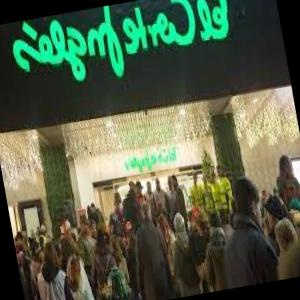corte_ingles: (119, 72, 241, 215), (242, 0, 245, 3)
